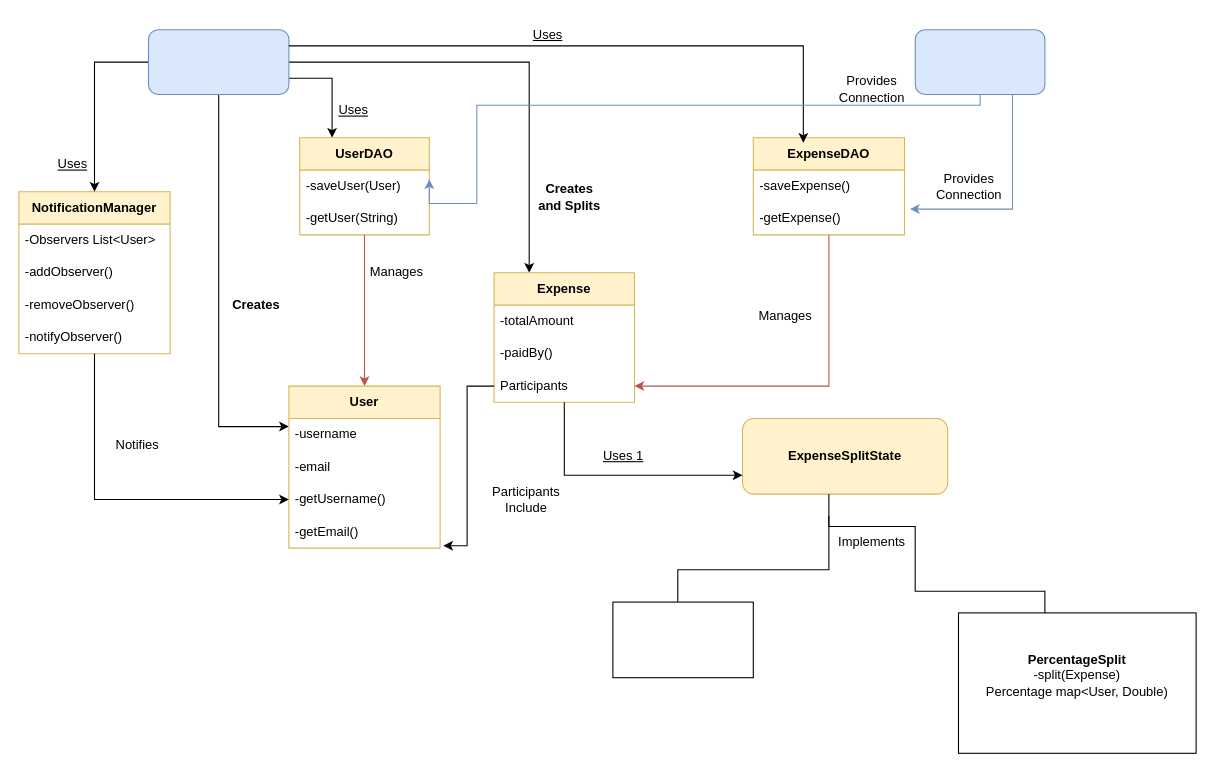
The diagram is 1215 pixels wide and 772 high, and some of its shapes have lost their labels. The centre of each missing label's shape, as x and y in pixels:
DBConnection -getConnection(): [979,61]
EqualSplit -split(Expense): [682,639]
Main: [218,61]
